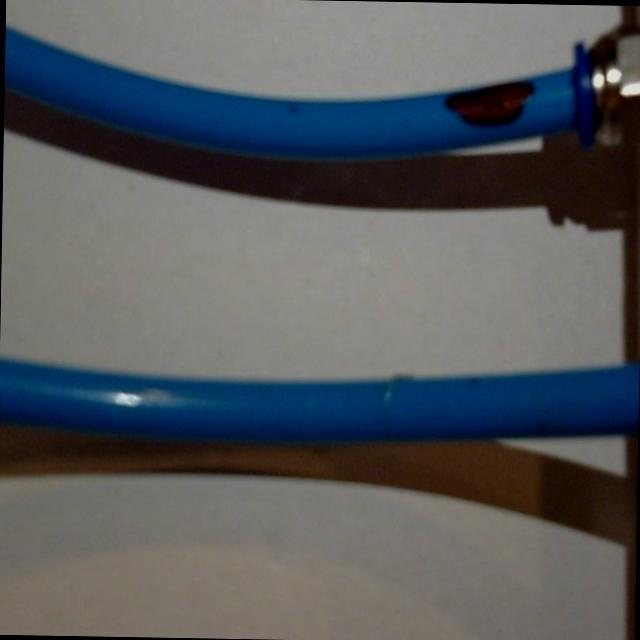hose_damage: (438, 70, 544, 130)
